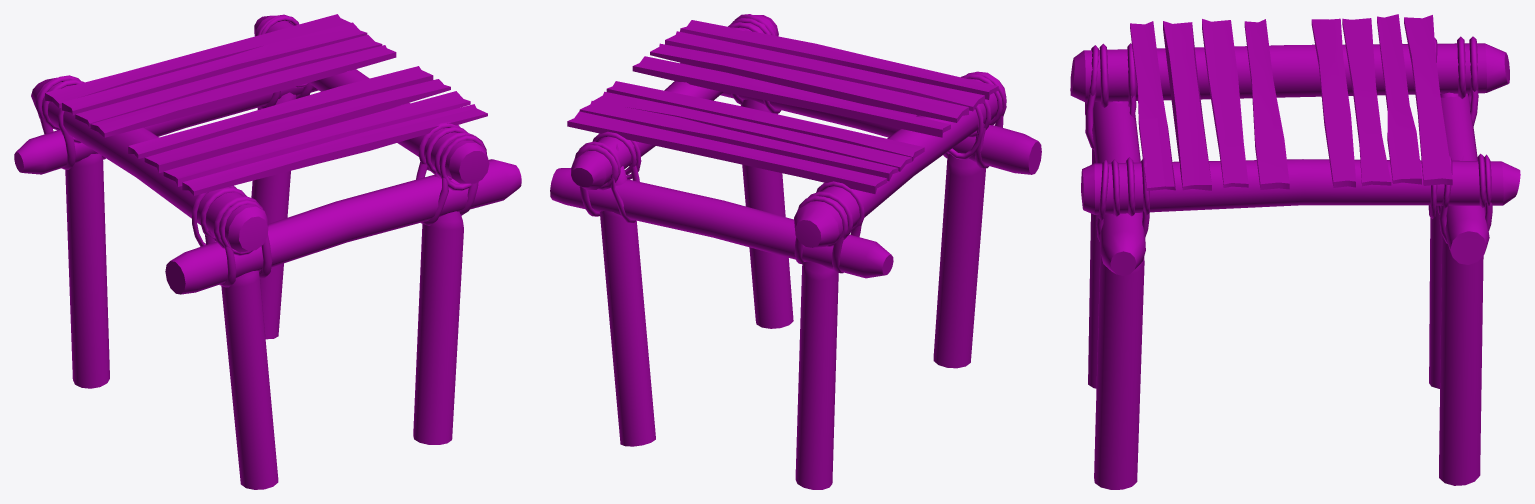
File: Platform_Wood_2.fbx
The picture shows the model from 3 angles, left to right: view 1: azimuth 30°, elevation 25°; view 2: azimuth 150°, elevation 25°; view 3: azimuth 270°, elevation 25°; orthographic projection. The views are drawn at different scales.
Parts seen in each view (by area): view 1: Platform_Wood_2; view 2: Platform_Wood_2; view 3: Platform_Wood_2.
Boxes of the visible parts, x1=… form: Platform_Wood_2: x1=14, y1=14, x2=521, y2=489; Platform_Wood_2: x1=550, y1=14, x2=1041, y2=489; Platform_Wood_2: x1=1070, y1=14, x2=1520, y2=489.
Size of the model in its own units: 7.81 by 6.53 by 7.79.
